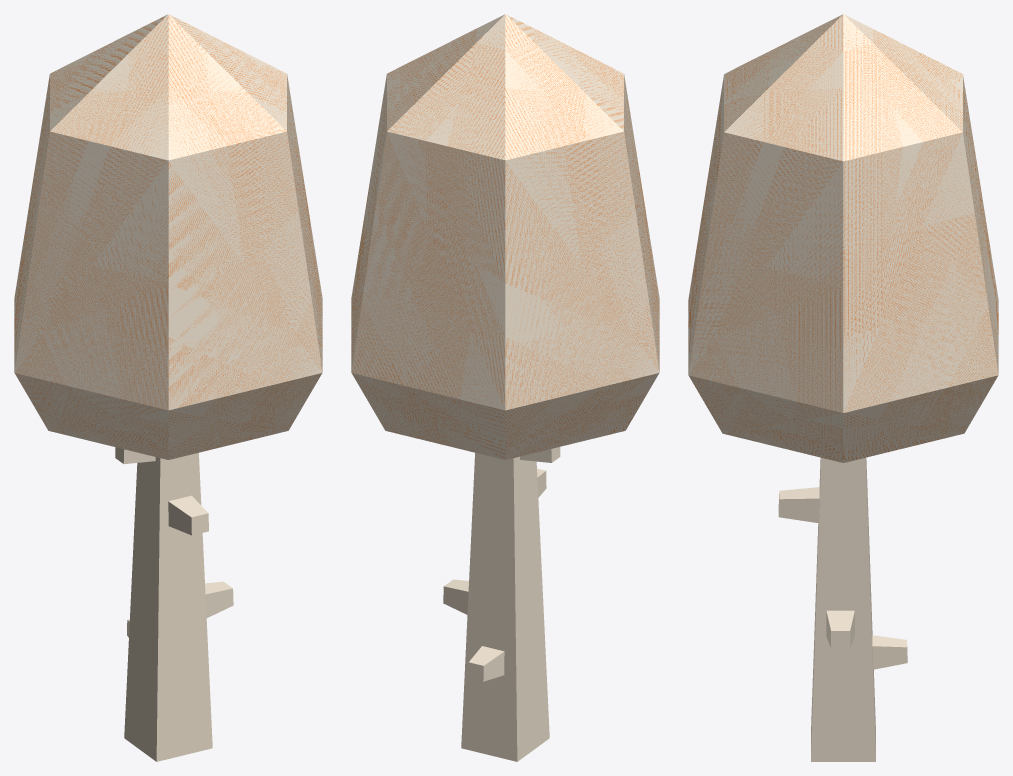
File: tree_default_fall.dae
3 views of the same model, side by side, from view 1: azimuth 30°, elevation 25°; view 2: azimuth 150°, elevation 25°; view 3: azimuth 270°, elevation 25° (orthographic).
Parts seen in each view (by area): view 1: tree_default_fall; view 2: tree_default_fall; view 3: tree_default_fall.
Boxes of the visible parts, x1,y1,x2,y2 form: tree_default_fall: (14, 14, 322, 761); tree_default_fall: (351, 14, 659, 761); tree_default_fall: (688, 14, 998, 761).
Bounding box in the file's own units: 0.755 × 1.71 × 0.6539.
